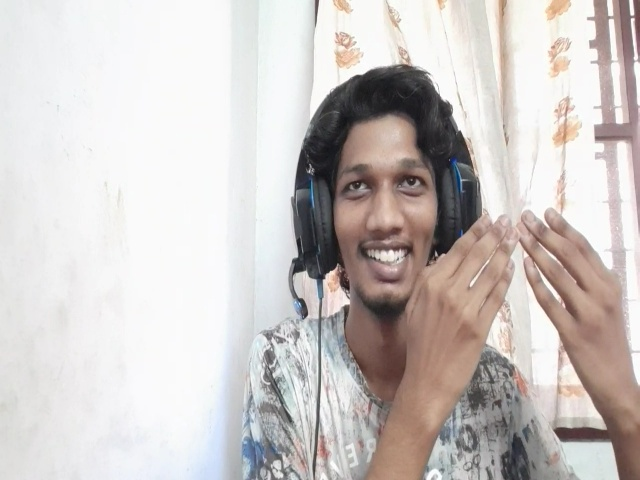ThankYou: (406, 210, 631, 379)
